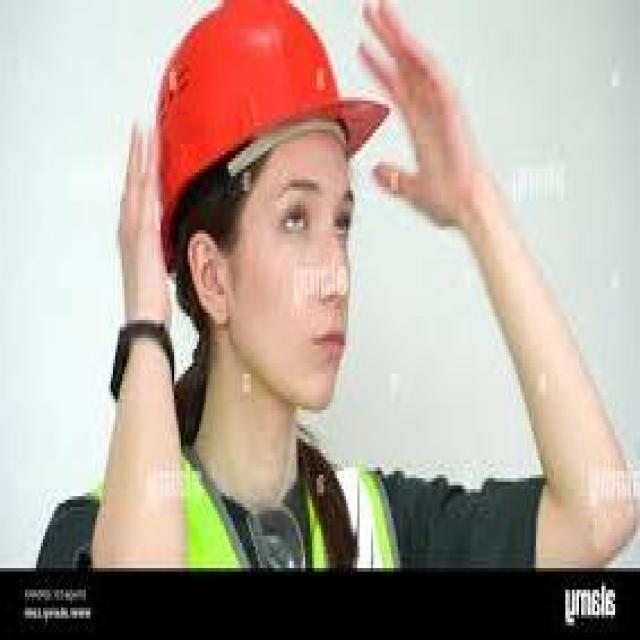Reflective-Jacket: (133, 410, 410, 572)
Safety-Helmet: (142, 7, 376, 230)
